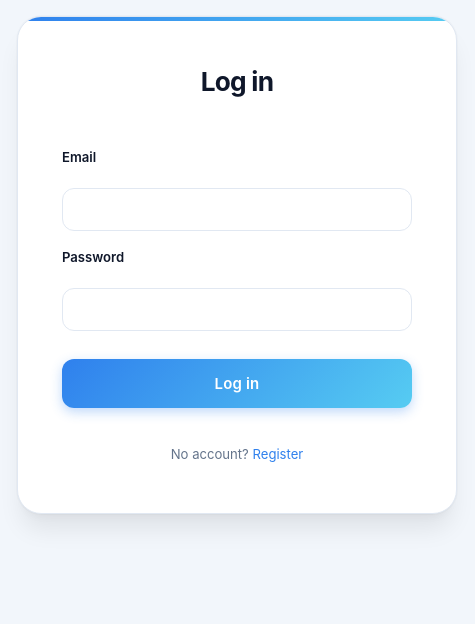
Test: Login › submits credentials and shows an error on failure
Type "a@example.com" into the field labelled "Email". click: {"x": 237, "y": 210}
box: 62,188 -> 412,231
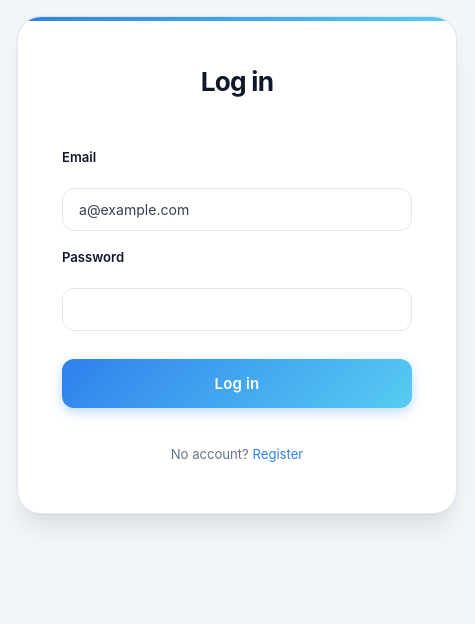
Type "wrong" into the password field labelled "Password". click: {"x": 237, "y": 310}
box: 62,288 -> 412,331
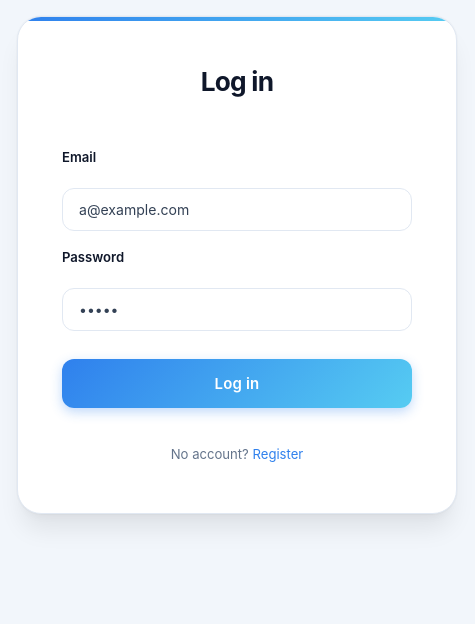
Click the button "Log in". click: {"x": 237, "y": 384}
box: 62,359 -> 412,408
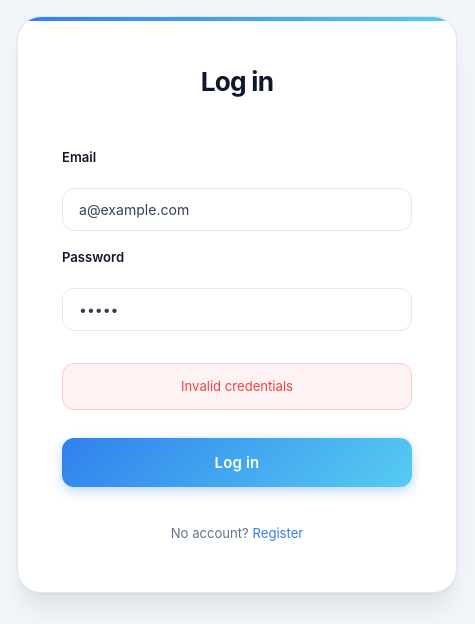
Check: the text "Invalid credentials" is shown, box 62,363 -> 412,410
